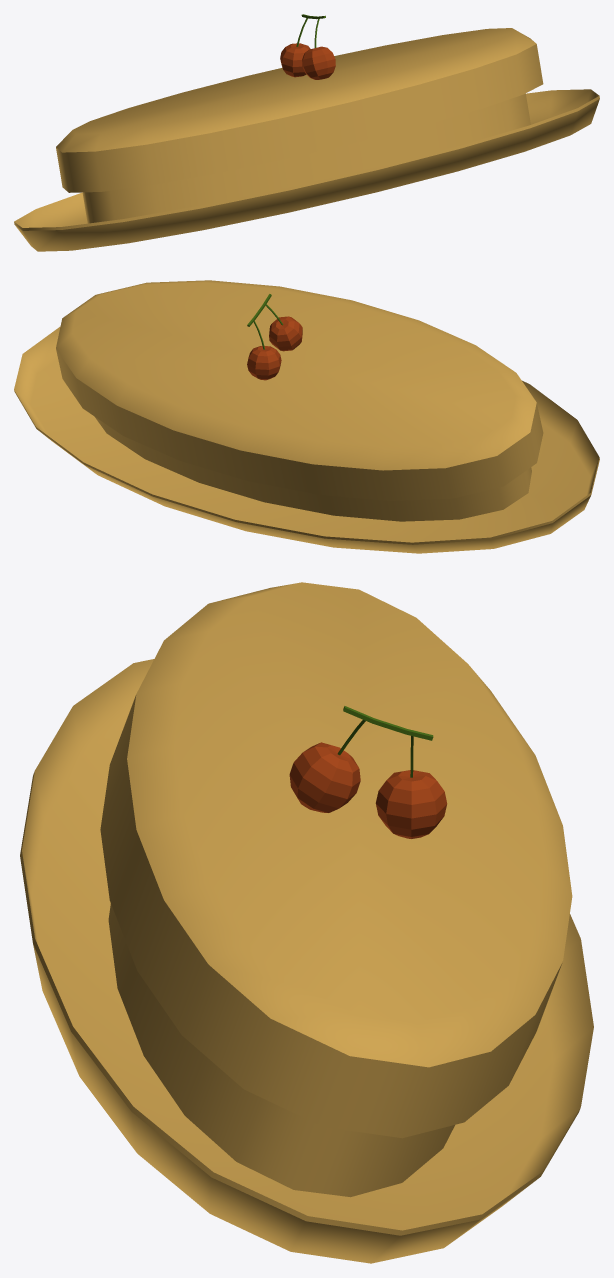
Rendered from cake2.fbx.
3 views of the same model, one above another, from view 1: azimuth 30°, elevation 25°; view 2: azimuth 150°, elevation 25°; view 3: azimuth 270°, elevation 25° (orthographic). The views are drawn at different scales.
Parts seen in each view (by area): view 1: pCylinder81; view 2: pCylinder81; view 3: pCylinder81.
Part boxes in pixels (x1,y1,x2,y2): pCylinder81: (14, 14, 599, 251); pCylinder81: (14, 280, 599, 553); pCylinder81: (20, 582, 593, 1263).
Bounding box in the file's own units: 1.16 × 0.3767 × 0.5083.
